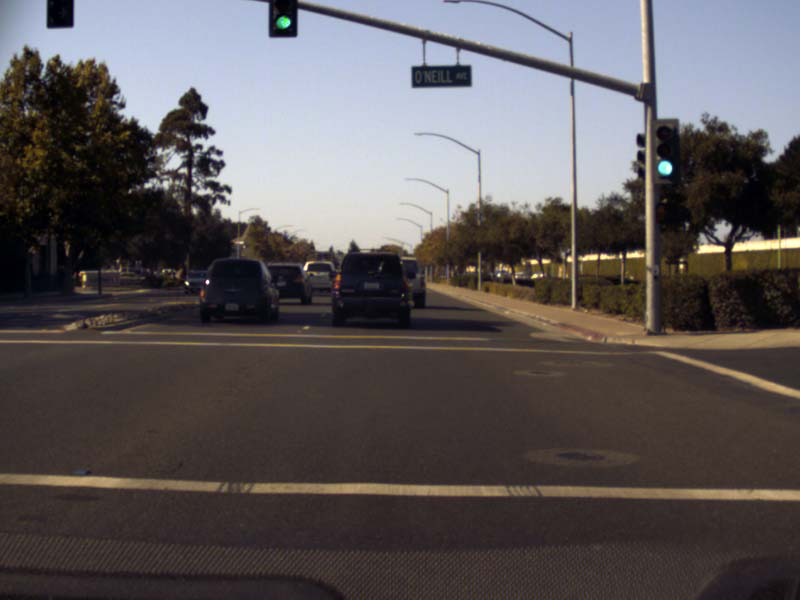Green: (651, 118, 679, 184)
